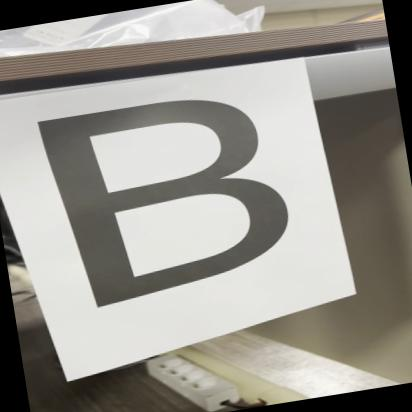seat: (21, 71, 310, 310)
